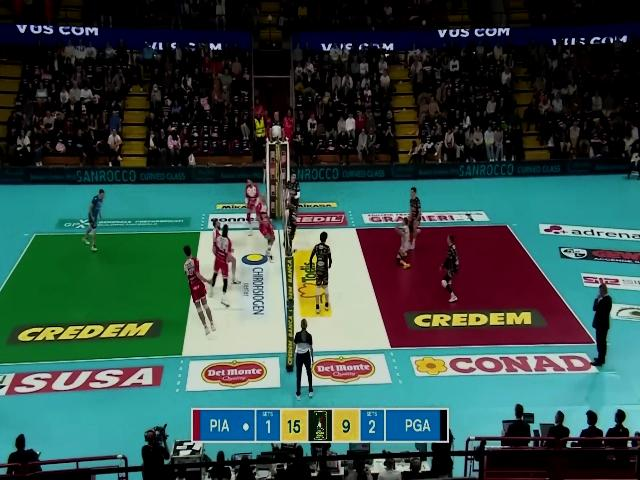volleyball court: (0, 226, 594, 351)
